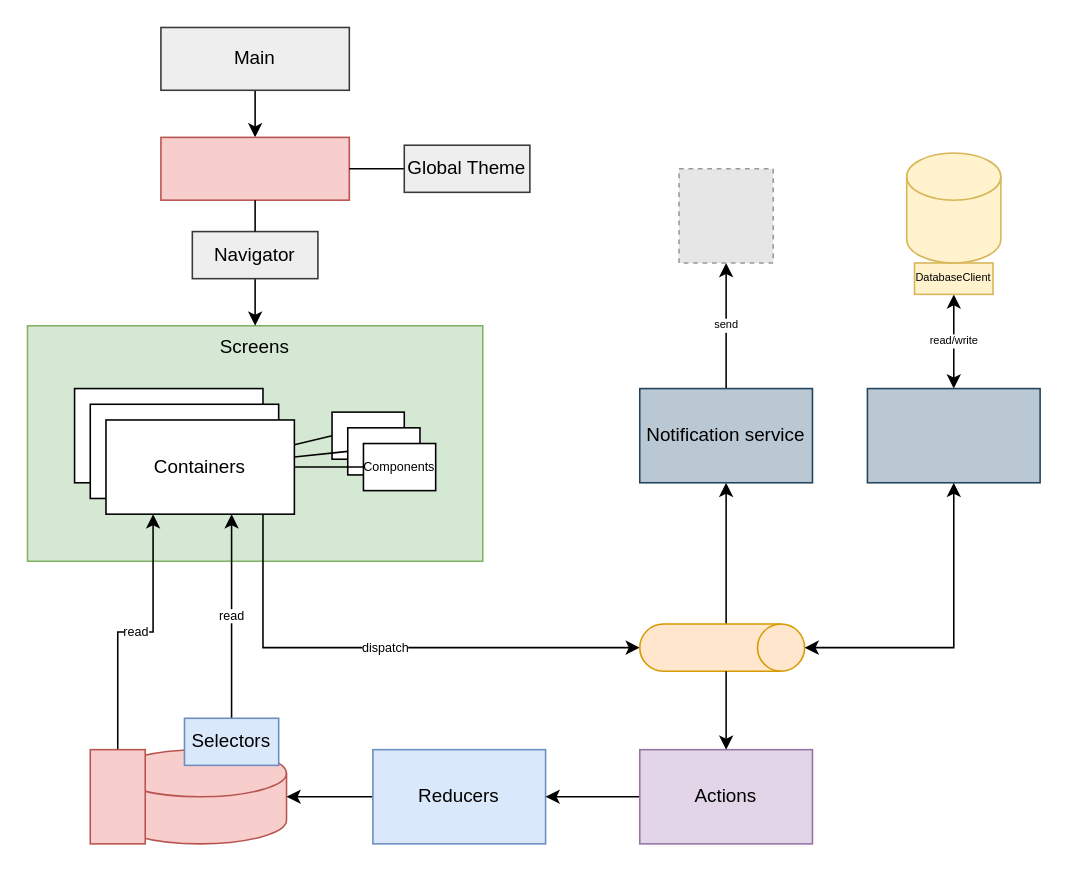
Image size: 1068x871. Some labels were removed from this diagram. Grey dashed boxes stand in for pictures. Here are the shapes that lost their labels. From the top down, the box of each, then its label:
(159, 136, 349, 200): ReduxApp
(905, 152, 1001, 263): SQLite
(866, 387, 1040, 483): Repository
(638, 623, 805, 671): Middleware
(89, 748, 145, 844): Store
(112, 748, 287, 844): State
